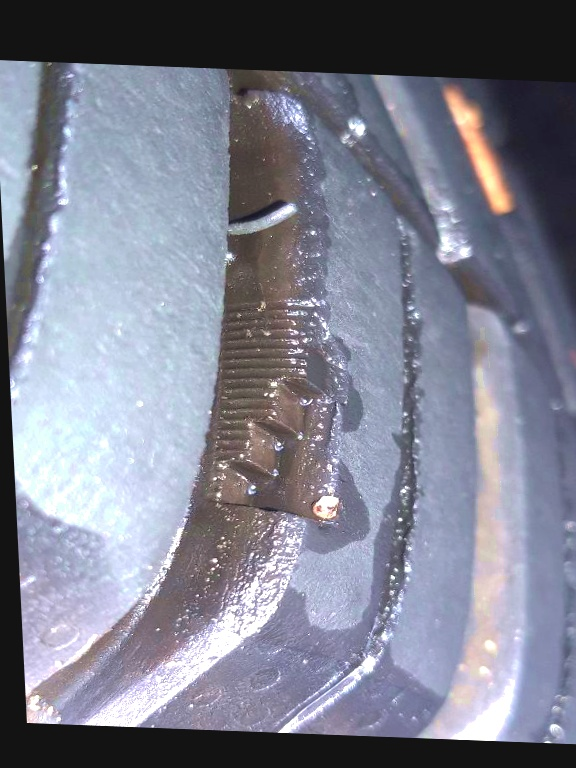temoin:80: (185, 298, 362, 531)
